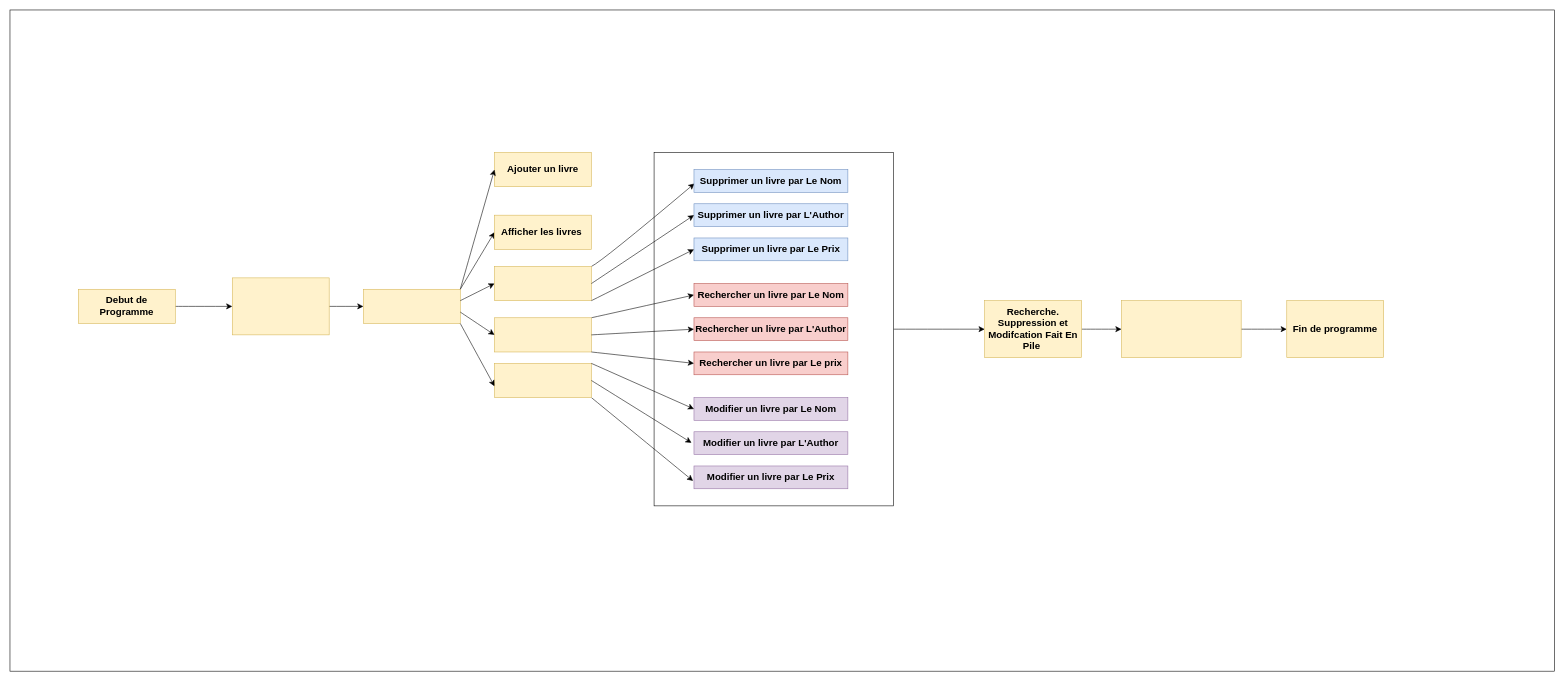
Some shapes in this 1565 by 681 pixel diagram are drawn without their labels. The shapes that lost their labels are listed below. From the top down, each one's box as (x1, y1, x2, y2) in pixels, then its label:
(494, 266, 591, 301): Supprimer un livre
(232, 277, 329, 335): Récupérer les informations à travers le fichier
(363, 289, 460, 323): Afficher le Meu
(494, 317, 591, 352): Rechercher un livre
(1121, 300, 1241, 358): Met à jour le fichier en remplaçant l'ancien contenu par celui de la pile.
(494, 363, 591, 398): Modifier les details d'un livre
